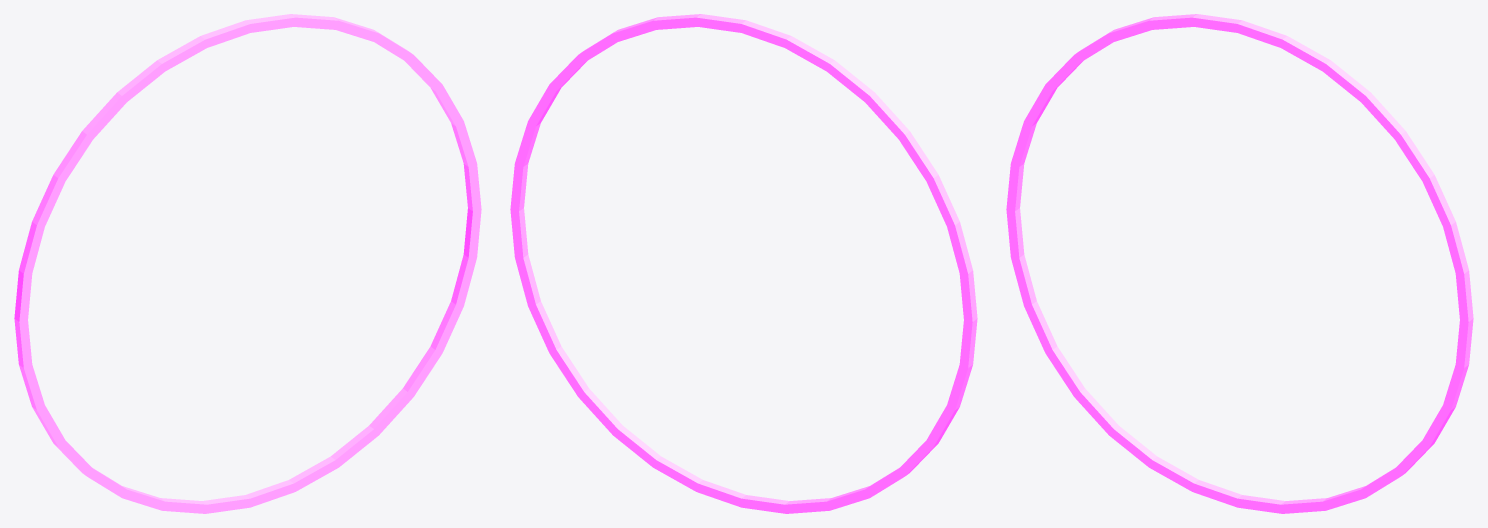
3 renders of one model, left to right at view 1: azimuth 30°, elevation 25°; view 2: azimuth 150°, elevation 25°; view 3: azimuth 330°, elevation 25°, orthographic.
Visible parts, largest first — view 1: Circle; view 2: Circle; view 3: Circle.
Part boxes in pixels (<box>): Circle: <box>14,14,481,513</box>; Circle: <box>510,14,977,513</box>; Circle: <box>1006,14,1473,513</box>.
Bounding box in the file's own units: 5.67 × 5.67 × 0.1057.
